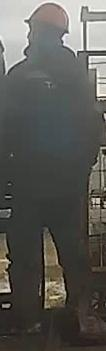helmet: (21, 0, 69, 36)
vest: (6, 55, 90, 201)
